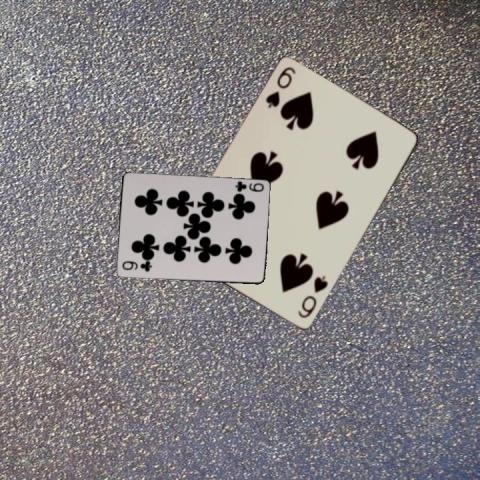6s: (295, 273, 330, 321), (263, 64, 297, 110)
9c: (232, 179, 265, 193), (118, 260, 152, 273)
